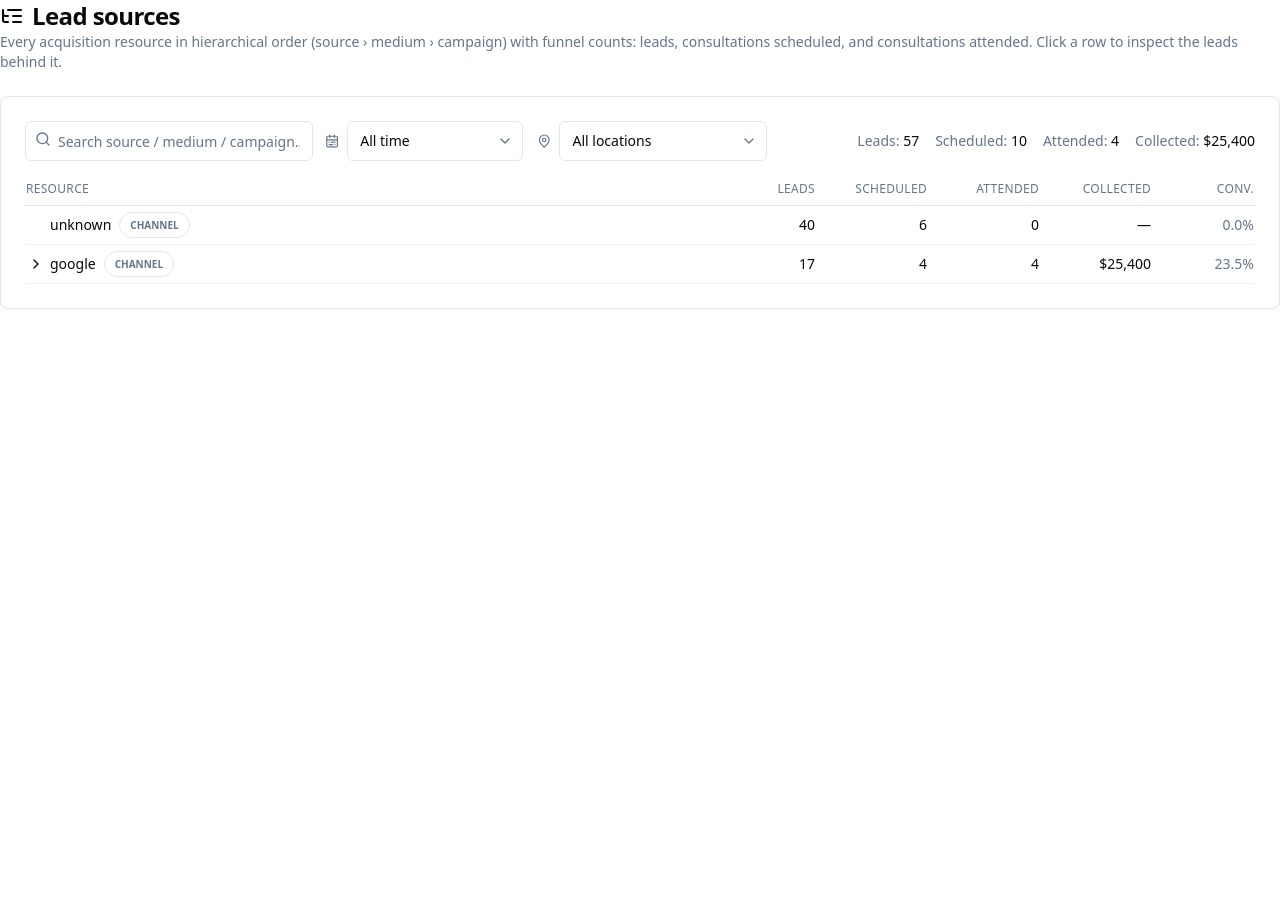
Test case: LeadSourcesPage › opens the drill-down dialog with the lead list
Click the button "google" at (73, 264), box left=50, top=254, right=96, bottom=274
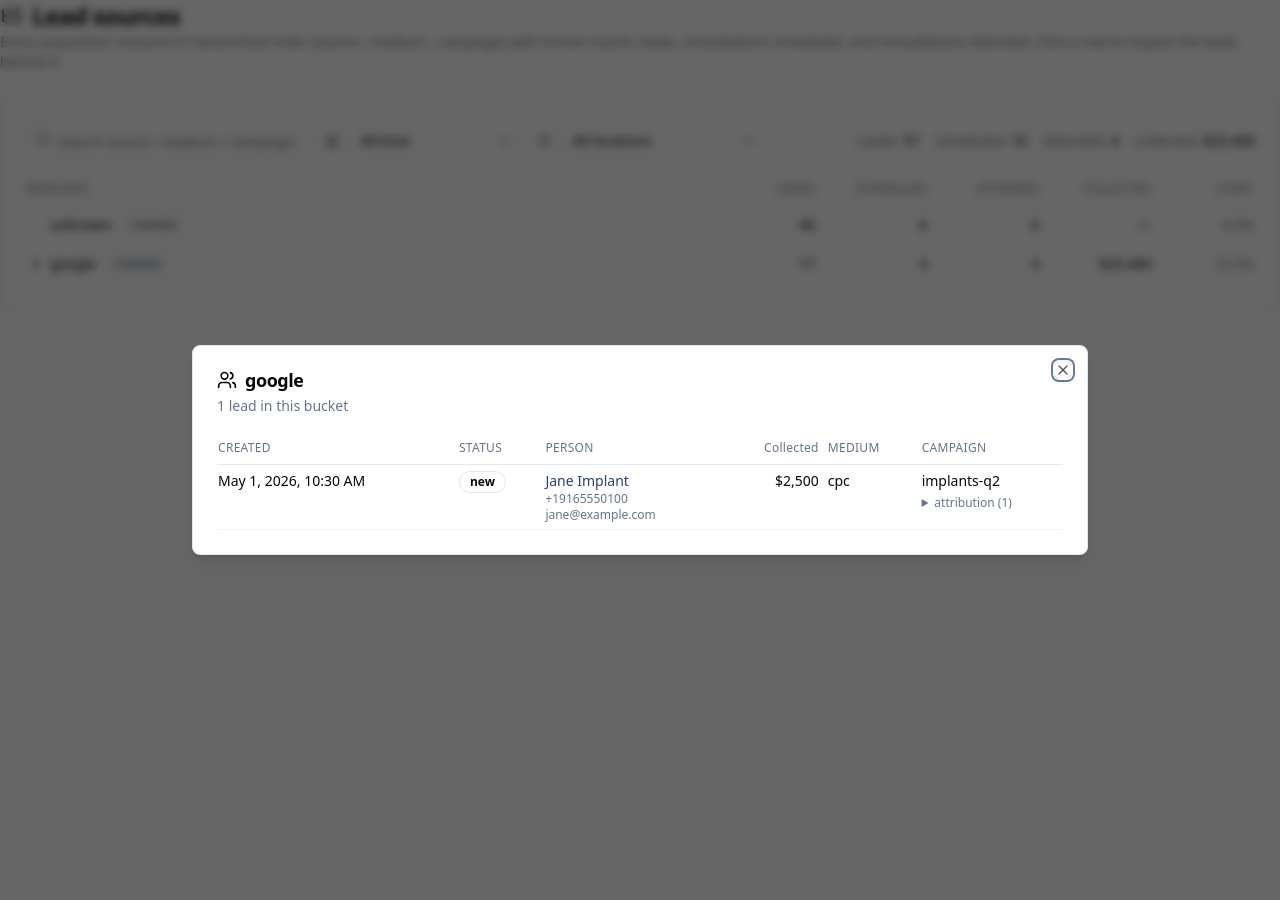
Now the text "1 lead in this bucket" is shown, box left=217, top=396, right=348, bottom=415
Now the text "new" is shown, box left=459, top=471, right=506, bottom=493
Now the link "Jane Implant" is shown, box left=545, top=471, right=629, bottom=490
